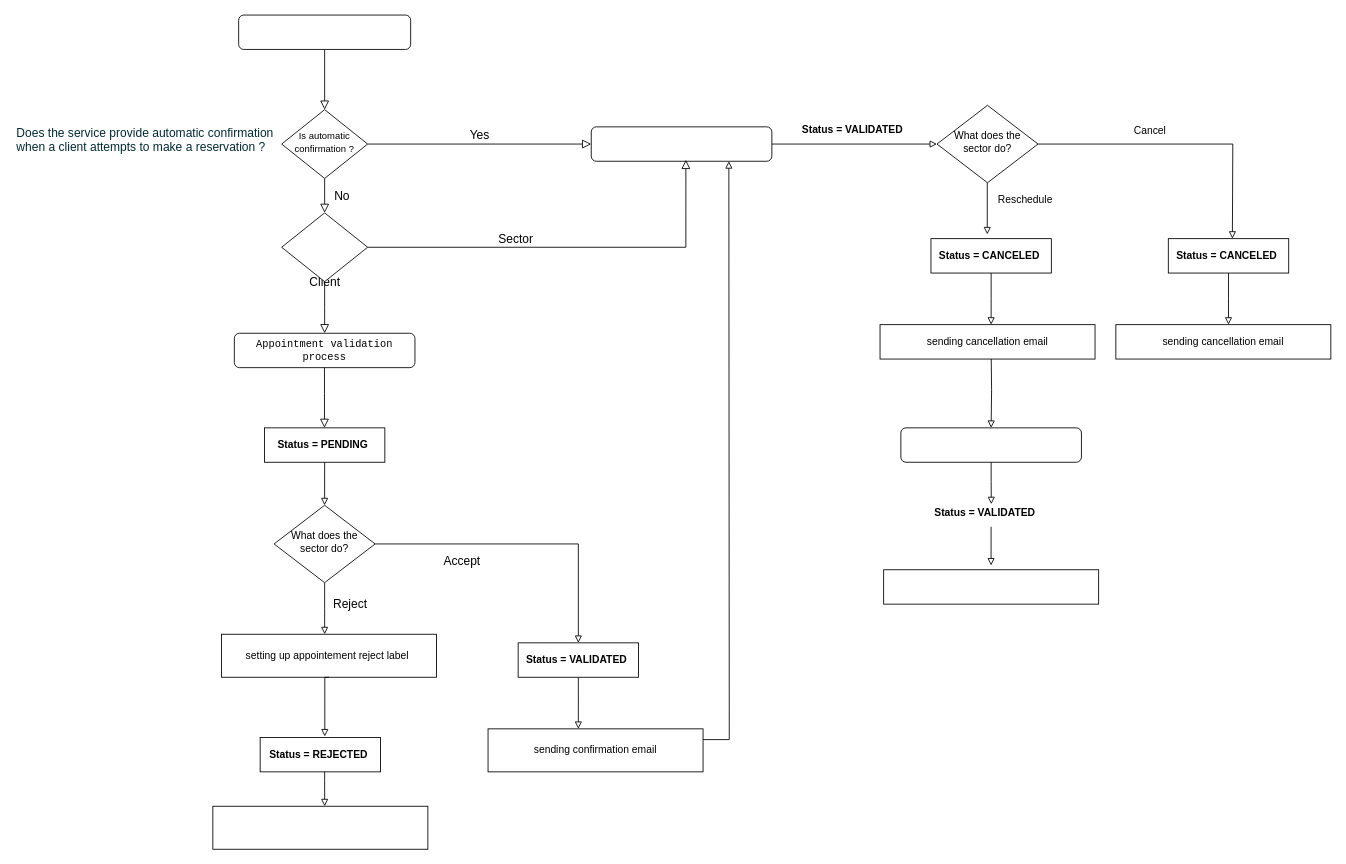
Some shapes in this 1346 by 864 pixel diagram are drawn without their labels. Each missing label, with the box of its shape:
appointement creation process: (238, 14, 411, 49)
Appointment after validation process: (590, 126, 772, 161)
Create new appointment: (900, 427, 1081, 462)
Created by whom ?: (281, 212, 368, 282)
sending rejection email: (212, 805, 428, 849)
sending rescheudule email: (883, 569, 1099, 604)
